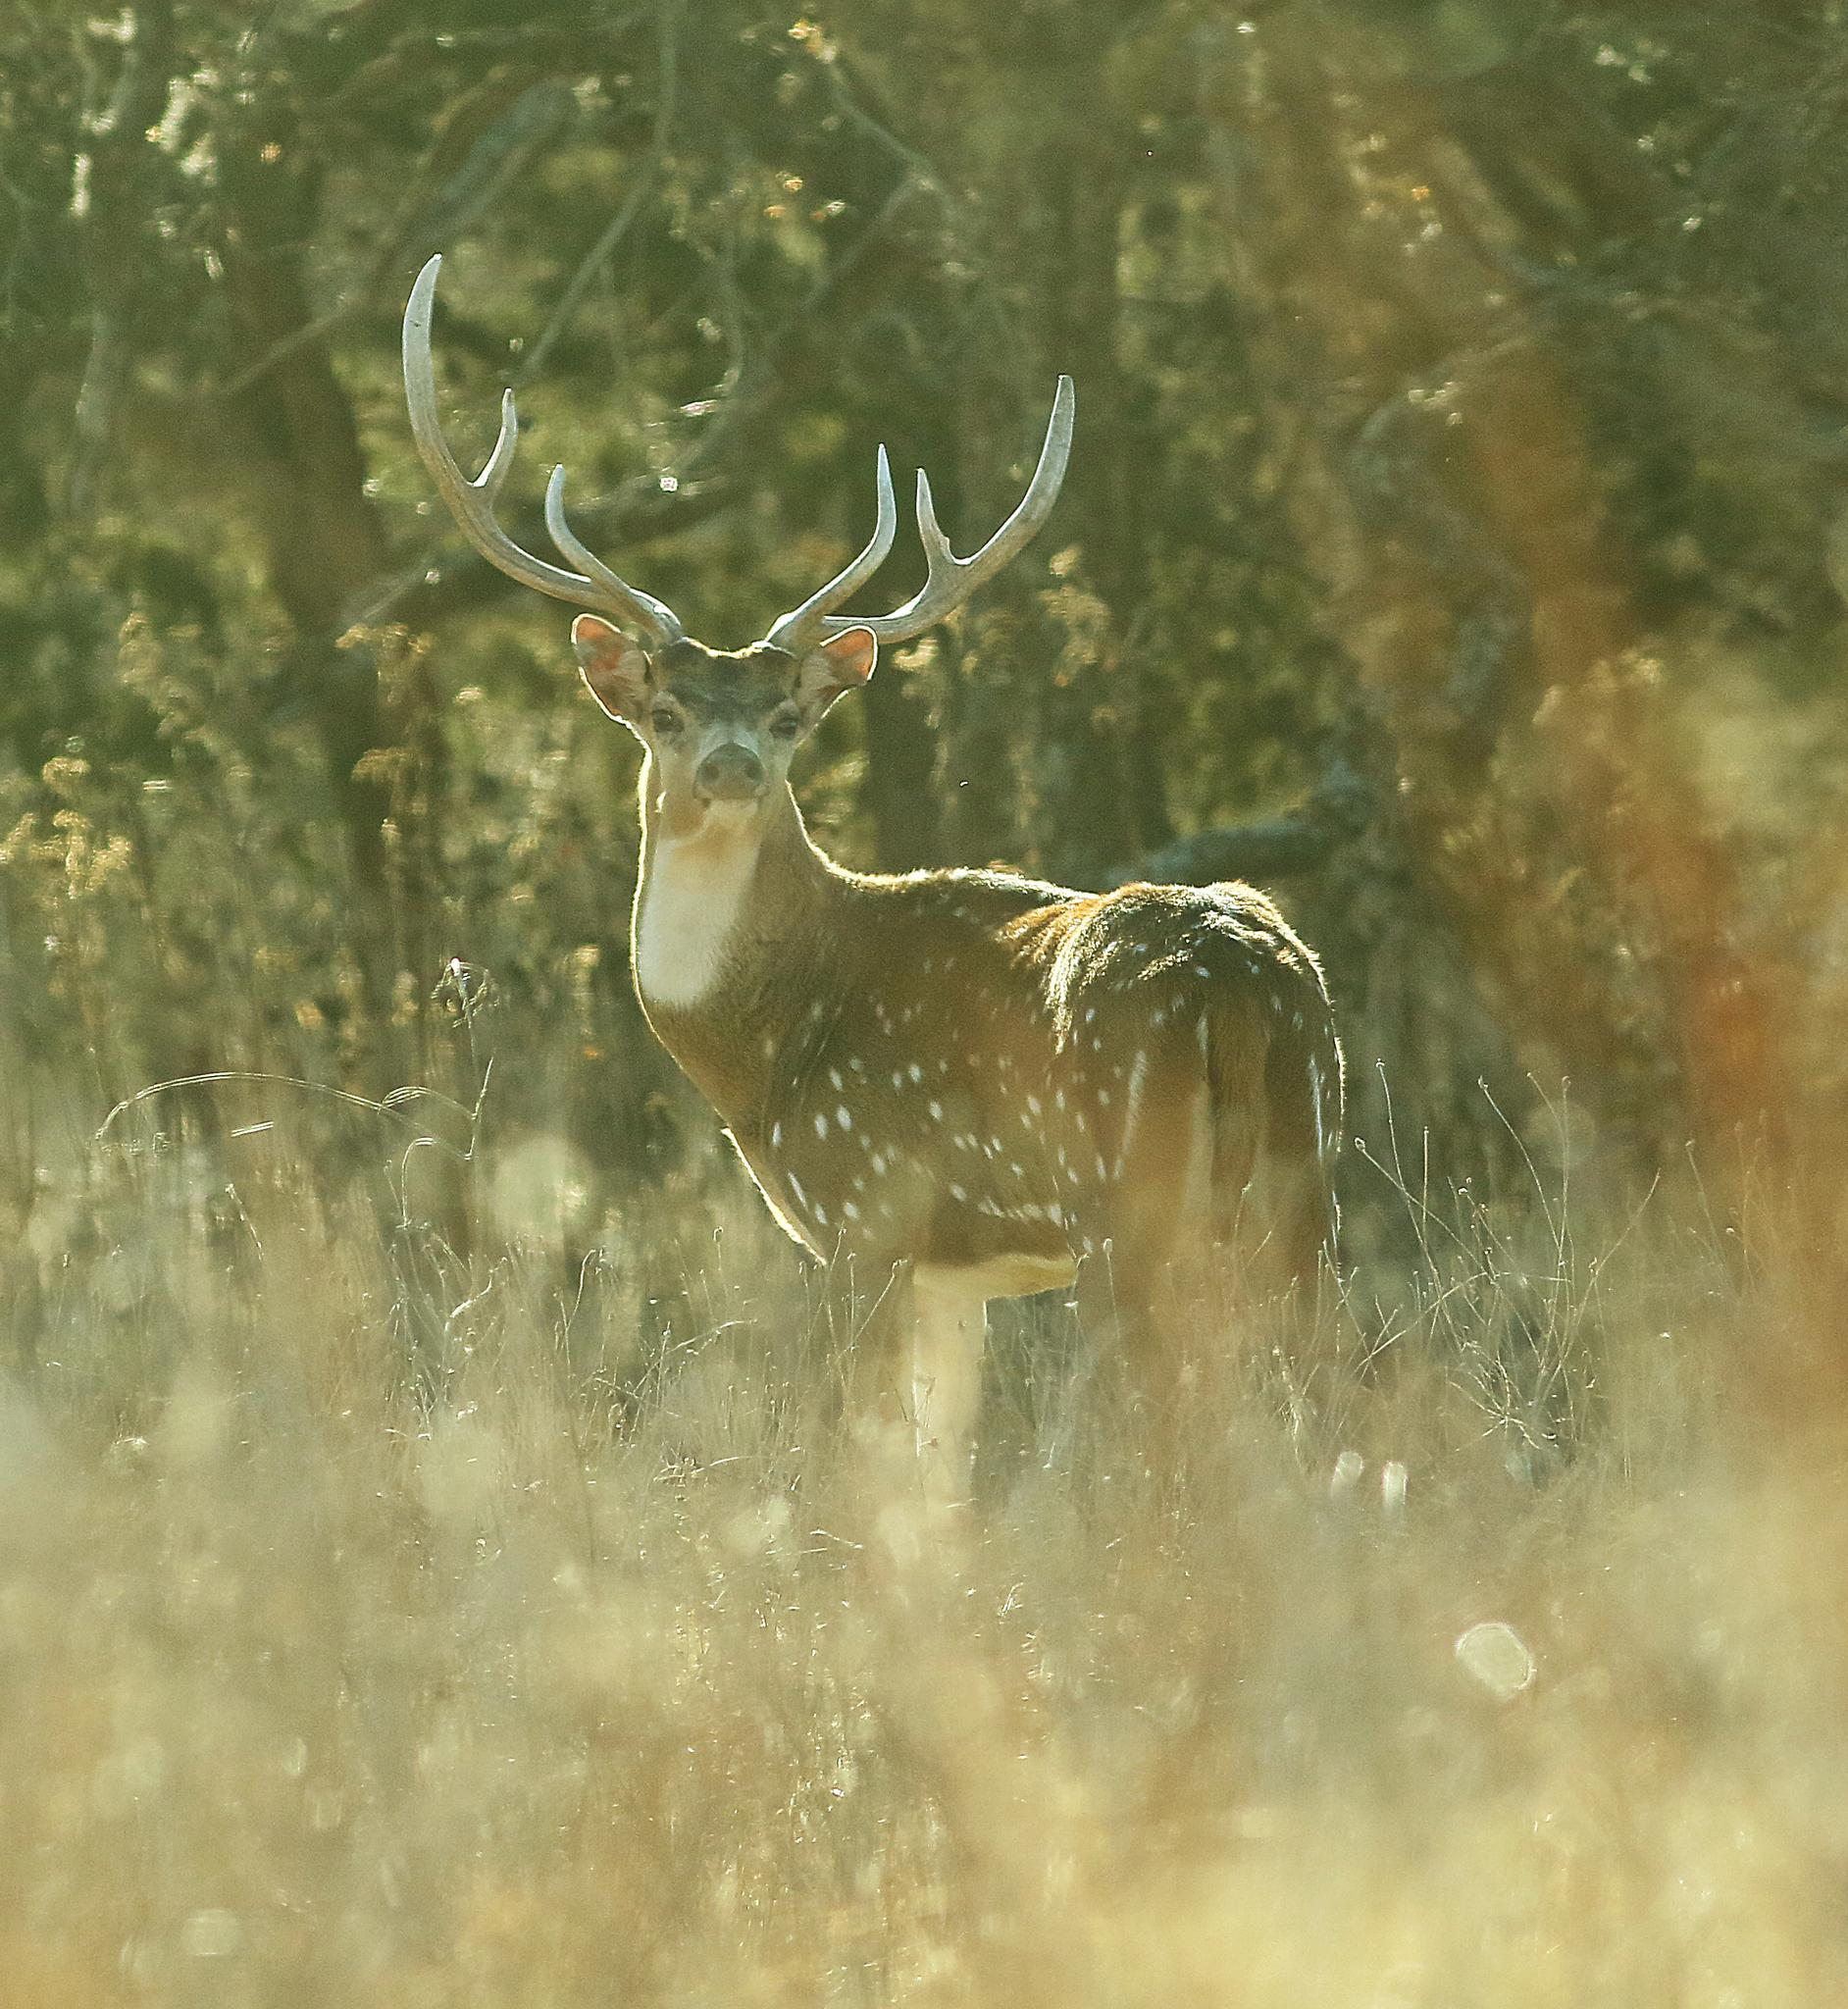Deer: (404, 254, 1341, 1300)
